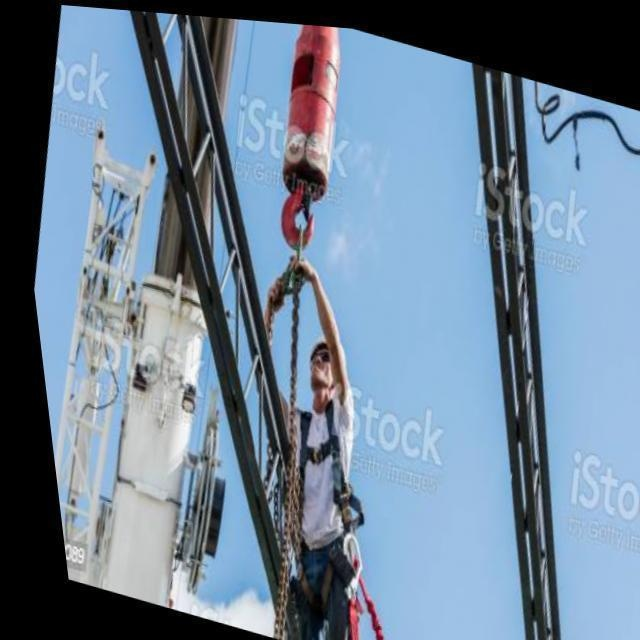Arnes_seguridad: (287, 399, 363, 588)
